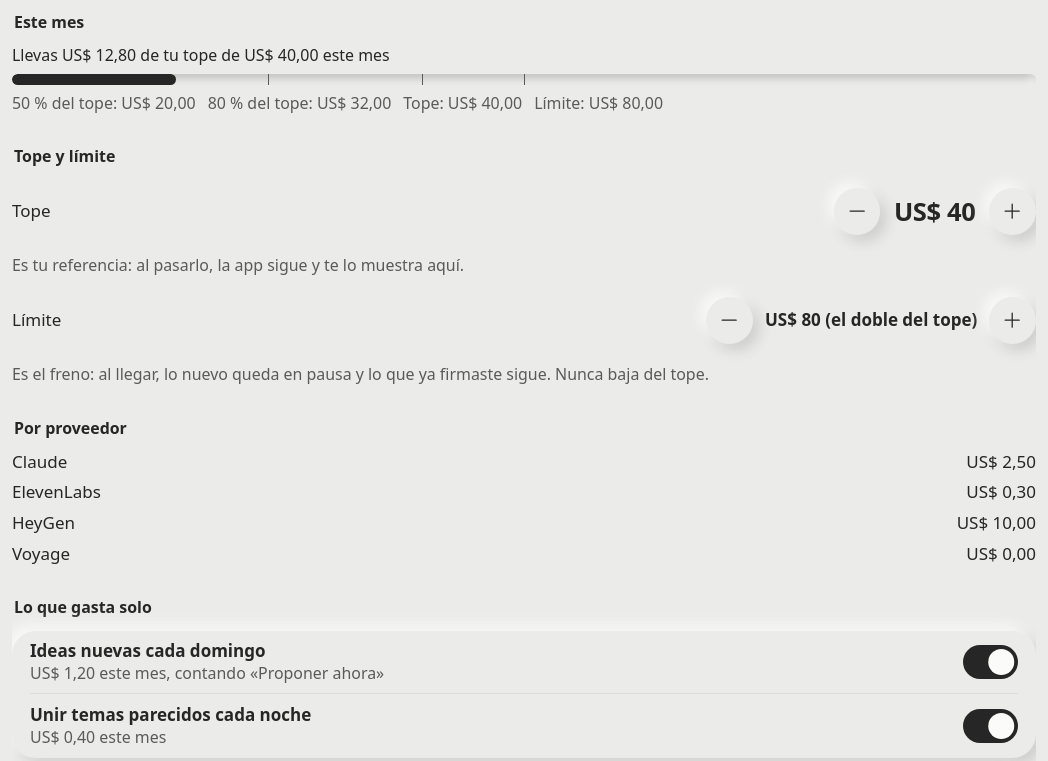
PantallaDePresupuesto › saves and shows a limit tapped while a cap save hangs and then fails
This screenshot has width=1048, height=761.
Click the button named "Subir el tope".
click(1013, 212)  # box [989,188,1036,235]
Wait 800 ms
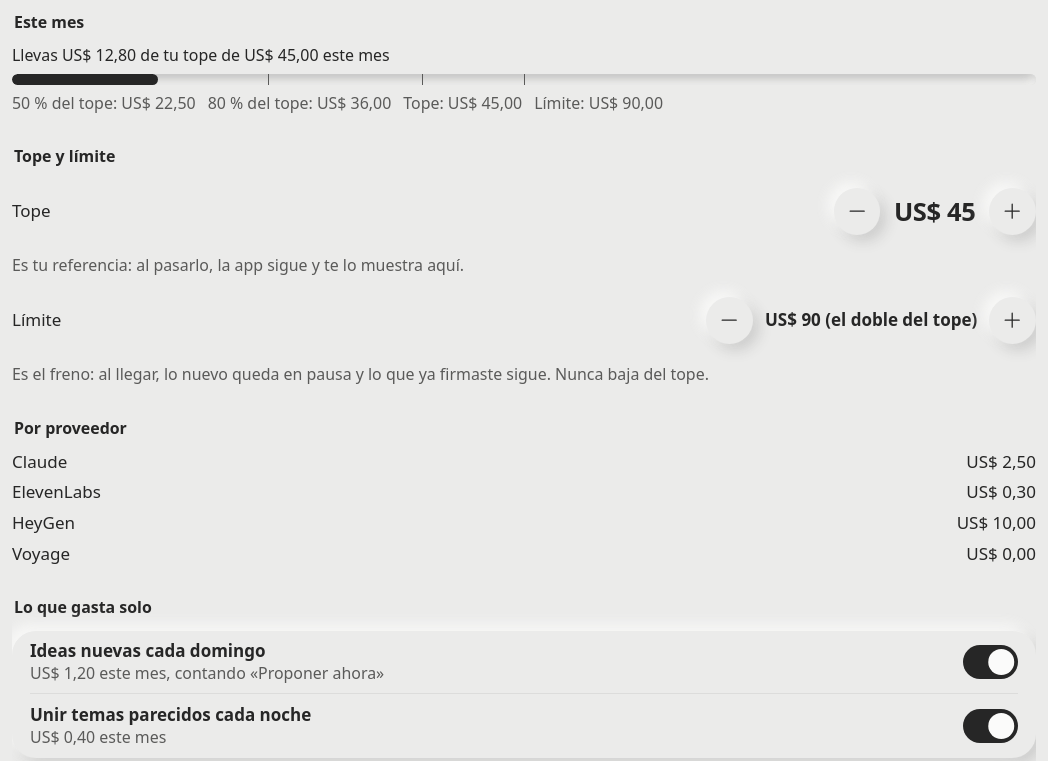
Click the button named "Subir el límite".
click(1013, 320)  # box [989,297,1036,344]
Wait 800 ms
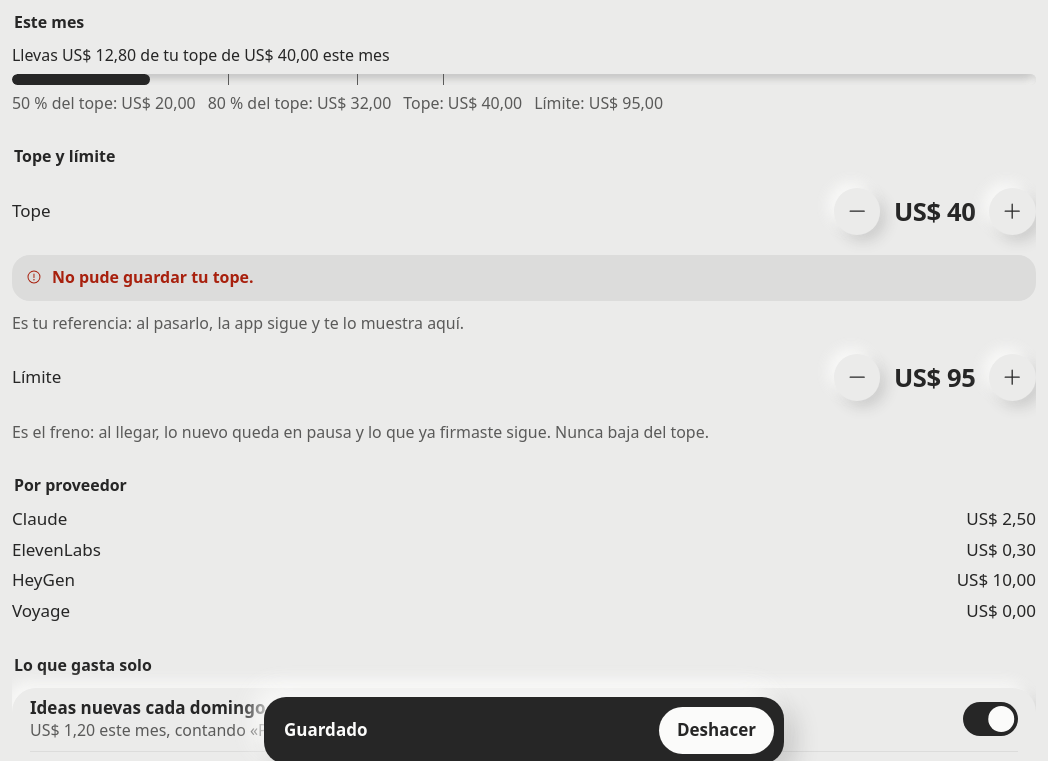
Result: the text "US$ 40" is shown at [892,197,977,226]
Result: the text "US$ 95" is shown at [892,363,977,393]
Result: the text "No pude guardar tu tope." is shown at [52,266,253,288]
